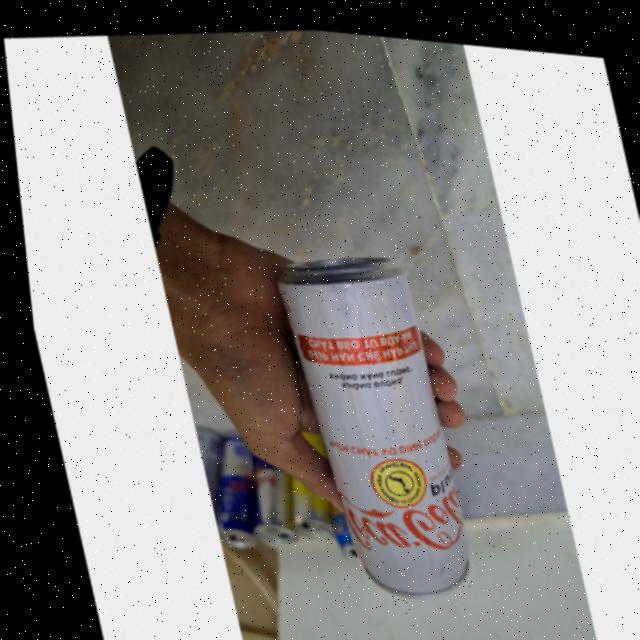Coca Cola Plus: (247, 229, 501, 610)
